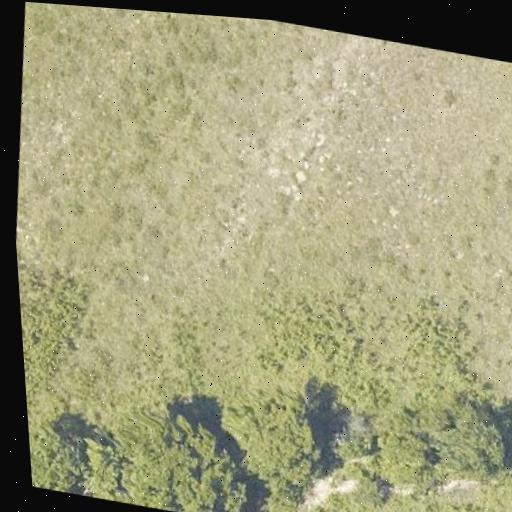tree-top: (115, 406, 249, 512), (217, 394, 326, 494), (431, 411, 512, 512), (372, 421, 441, 493), (28, 426, 91, 496)
